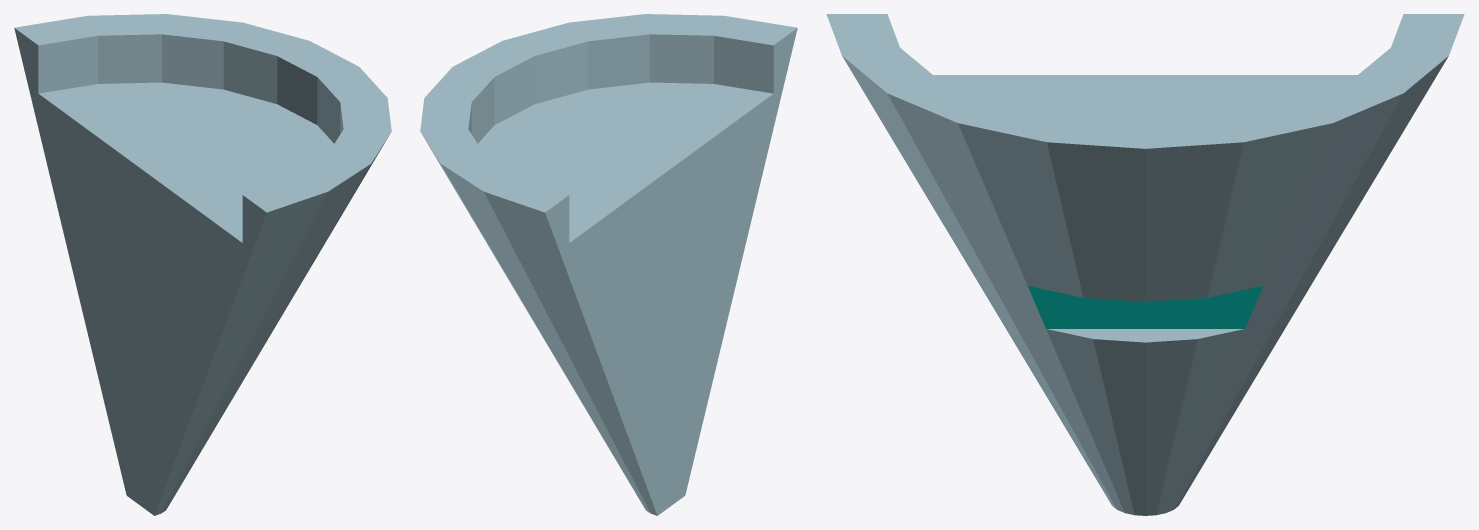
File: vase-02.fbx
3 renders of one model, left to right at view 1: azimuth 30°, elevation 25°; view 2: azimuth 150°, elevation 25°; view 3: azimuth 270°, elevation 25°, orthographic. The views are drawn at different scales.
Visible parts, largest first — view 1: vase-02; view 2: vase-02; view 3: vase-02.
Part boxes in pixels (left/top/right/bottom): vase-02: left=14, top=14, right=391, bottom=515; vase-02: left=420, top=14, right=797, bottom=515; vase-02: left=826, top=14, right=1464, bottom=515.
Bounding box in the file's own units: 4.75 × 8 × 9.5.
